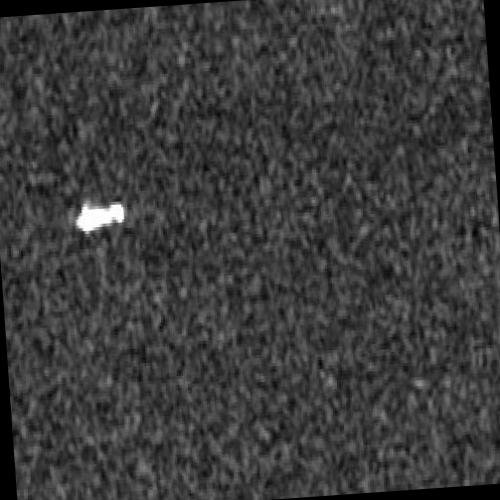ship: (75, 200, 124, 233)
